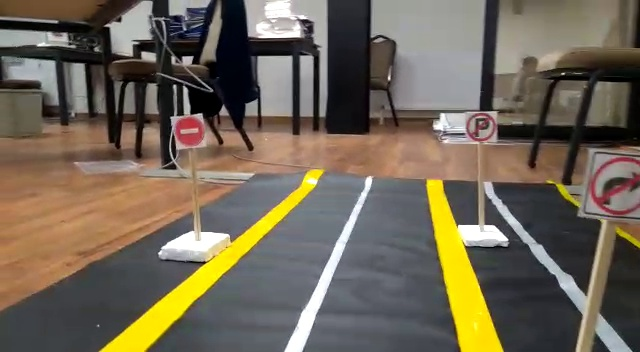girisi_olmayan_yol: (172, 114, 206, 148)
park_yapilmaz: (465, 110, 499, 141)
saga_donulmez: (590, 151, 640, 214)
